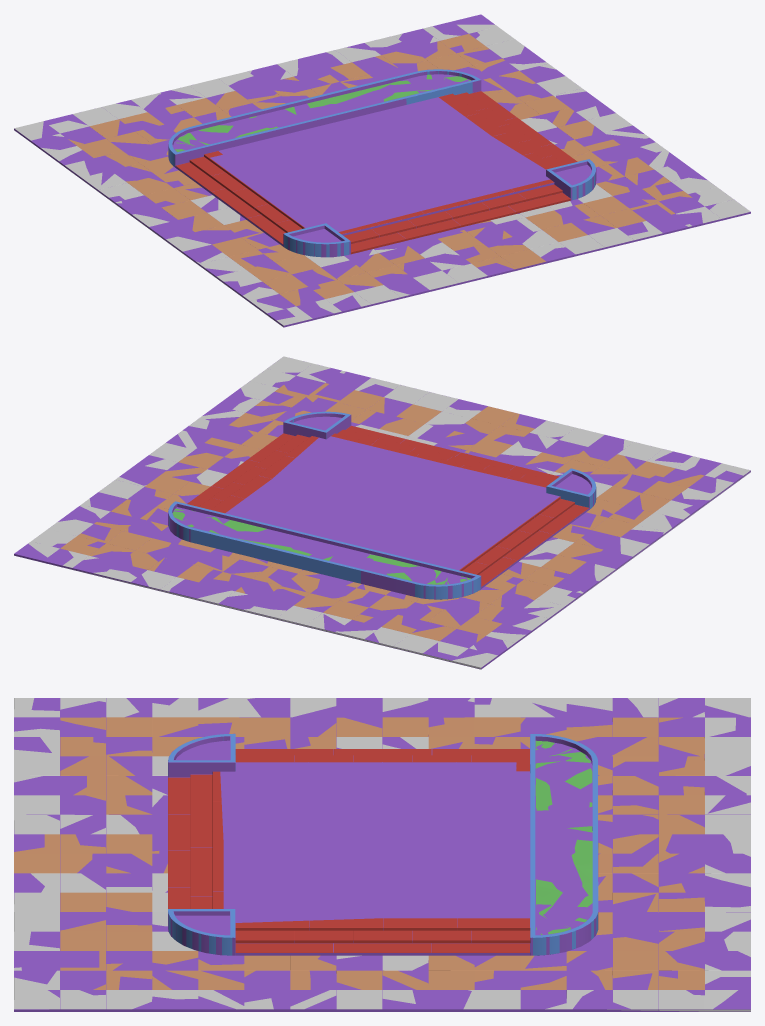
Rendered from [arch] Platform.fbx.
3 views of the same model, one above another, from view 1: azimuth 30°, elevation 25°; view 2: azimuth 150°, elevation 25°; view 3: azimuth 270°, elevation 25° (orthographic). The views are drawn at different scales.
Parts seen in each view (by area): view 1: Platform_PHYS, Platform_LOD0; view 2: Platform_PHYS, Platform_LOD0; view 3: Platform_PHYS, Platform_LOD0.
Boxes of the visible parts, x1,y1,x2,y2 form: Platform_PHYS: (14, 14, 750, 327); Platform_LOD0: (14, 24, 750, 326); Platform_PHYS: (14, 368, 750, 669); Platform_LOD0: (28, 356, 750, 668); Platform_PHYS: (14, 698, 750, 1011); Platform_LOD0: (14, 698, 750, 1011).
Size of what is drawn, in the model's own units: 2473 by 75.85 by 2473.
